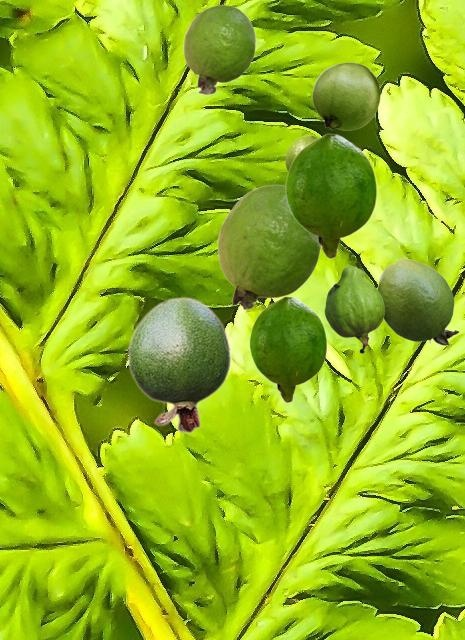guava: (127, 296, 231, 433), (217, 184, 321, 309), (285, 133, 376, 258), (249, 296, 326, 402), (377, 258, 458, 344), (183, 4, 255, 94), (324, 265, 383, 352), (312, 62, 379, 129), (285, 135, 317, 170)
